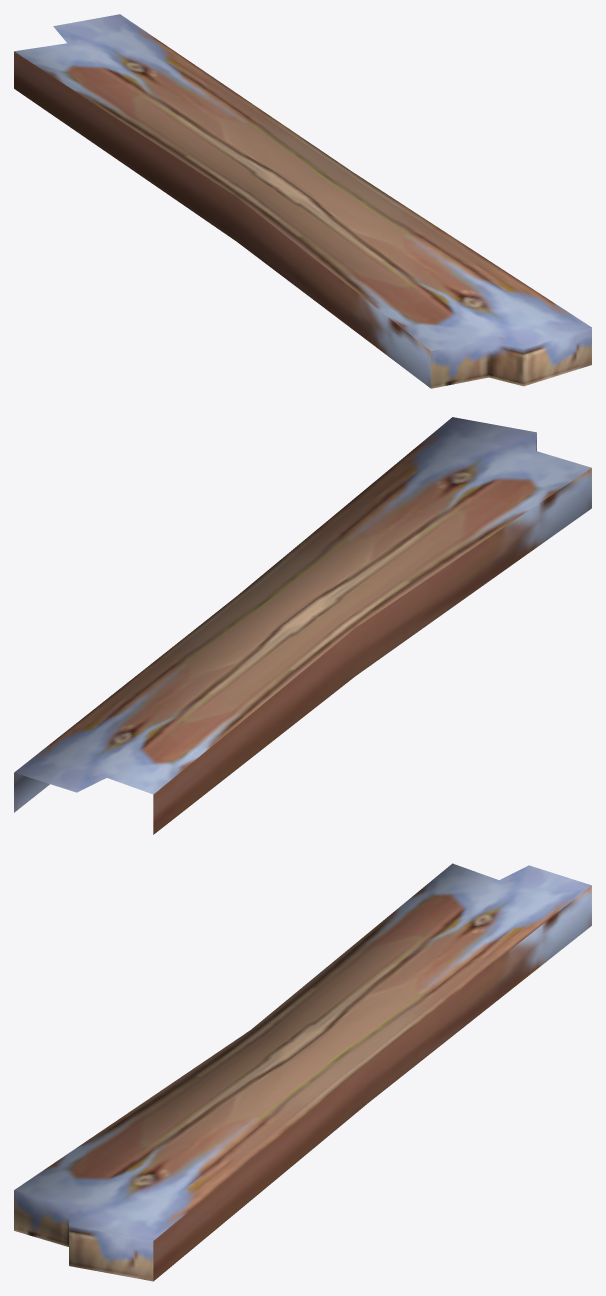
File: Map_10_wooden13.FBX
3 views of the same model, one above another, from view 1: azimuth 30°, elevation 25°; view 2: azimuth 150°, elevation 25°; view 3: azimuth 330°, elevation 25° (orthographic). The views are drawn at different scales.
Parts seen in each view (by area): view 1: Map_10_wooden13; view 2: Map_10_wooden13; view 3: Map_10_wooden13.
Part boxes in pixels (x1,y1,x2,y2): Map_10_wooden13: (14,14,591,388); Map_10_wooden13: (14,417,591,834); Map_10_wooden13: (14,863,591,1281).
Size of the model in its own units: 1.92 by 0.5452 by 9.89.
